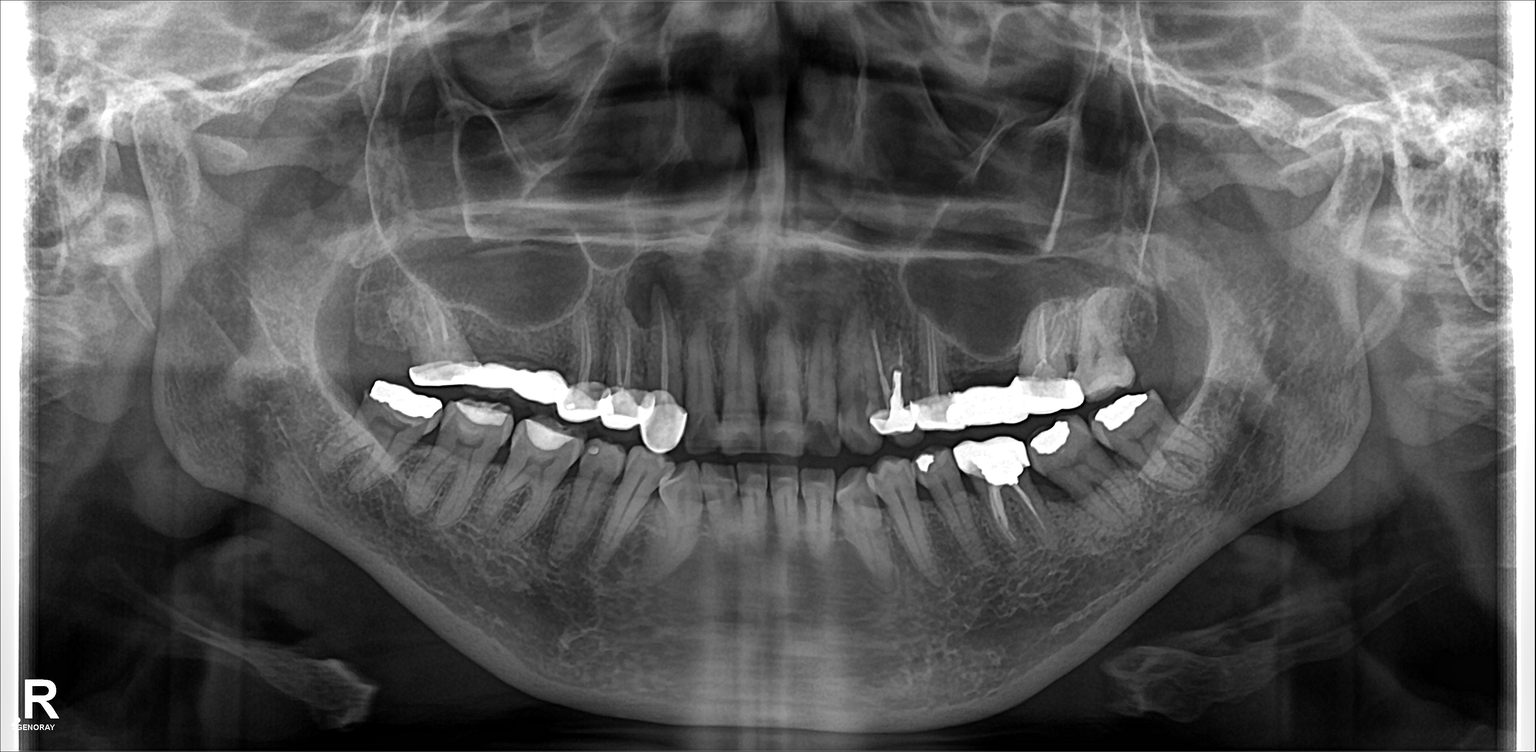Endodontically Treated Tooth: (968, 445, 1047, 565), (394, 268, 475, 383), (358, 382, 439, 492), (1017, 309, 1082, 417), (646, 300, 682, 450), (596, 300, 639, 425), (909, 307, 948, 444), (873, 322, 915, 445), (566, 307, 605, 420)
Missing Tooth: (336, 248, 393, 378), (1121, 307, 1189, 377)
